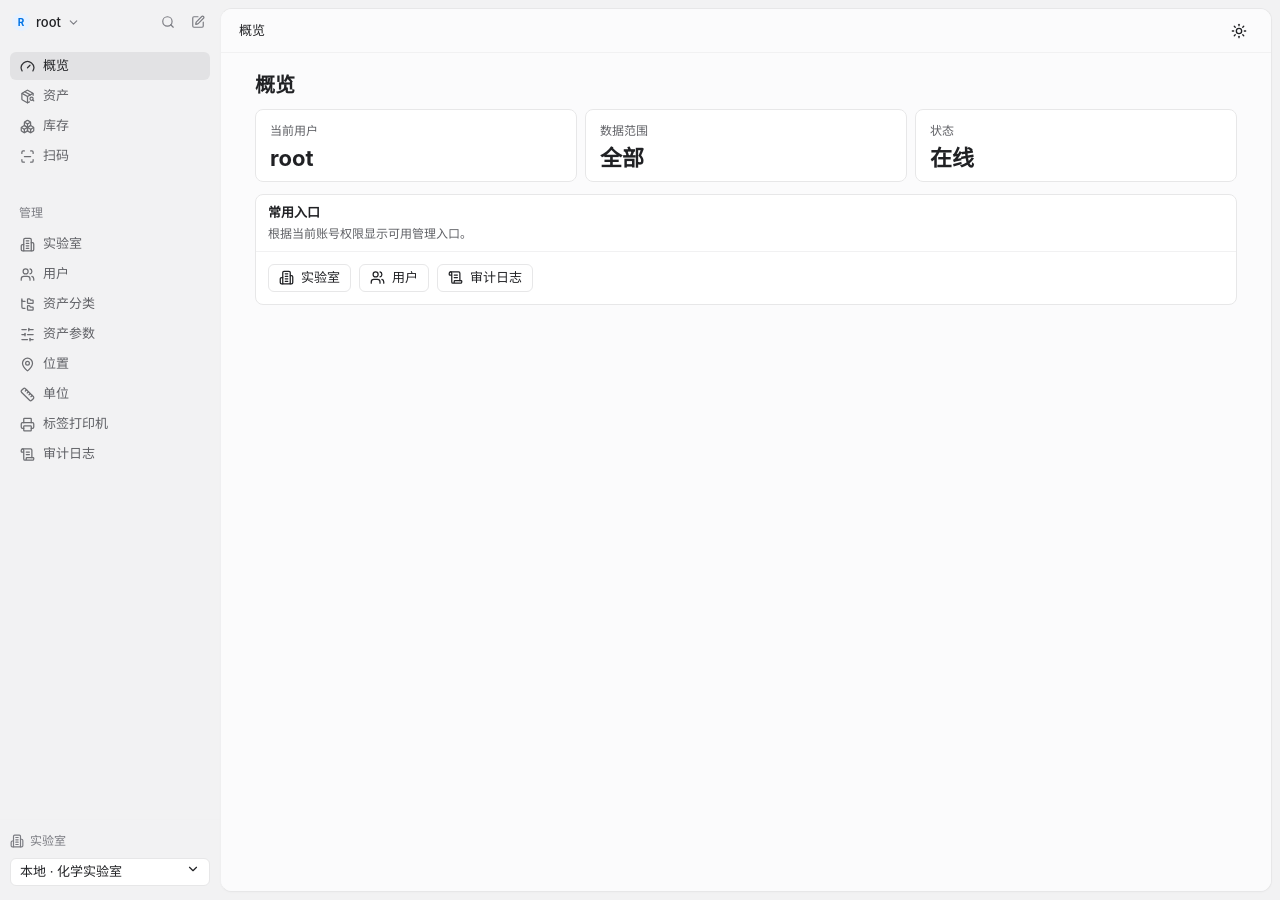
Test case: AppShell user menu › logs out through the backend and returns to login
expect the heading "概览" is shown: met, box left=255, top=73, right=295, bottom=97
Click the button "R root" at (48, 22), box left=12, top=8, right=85, bottom=36
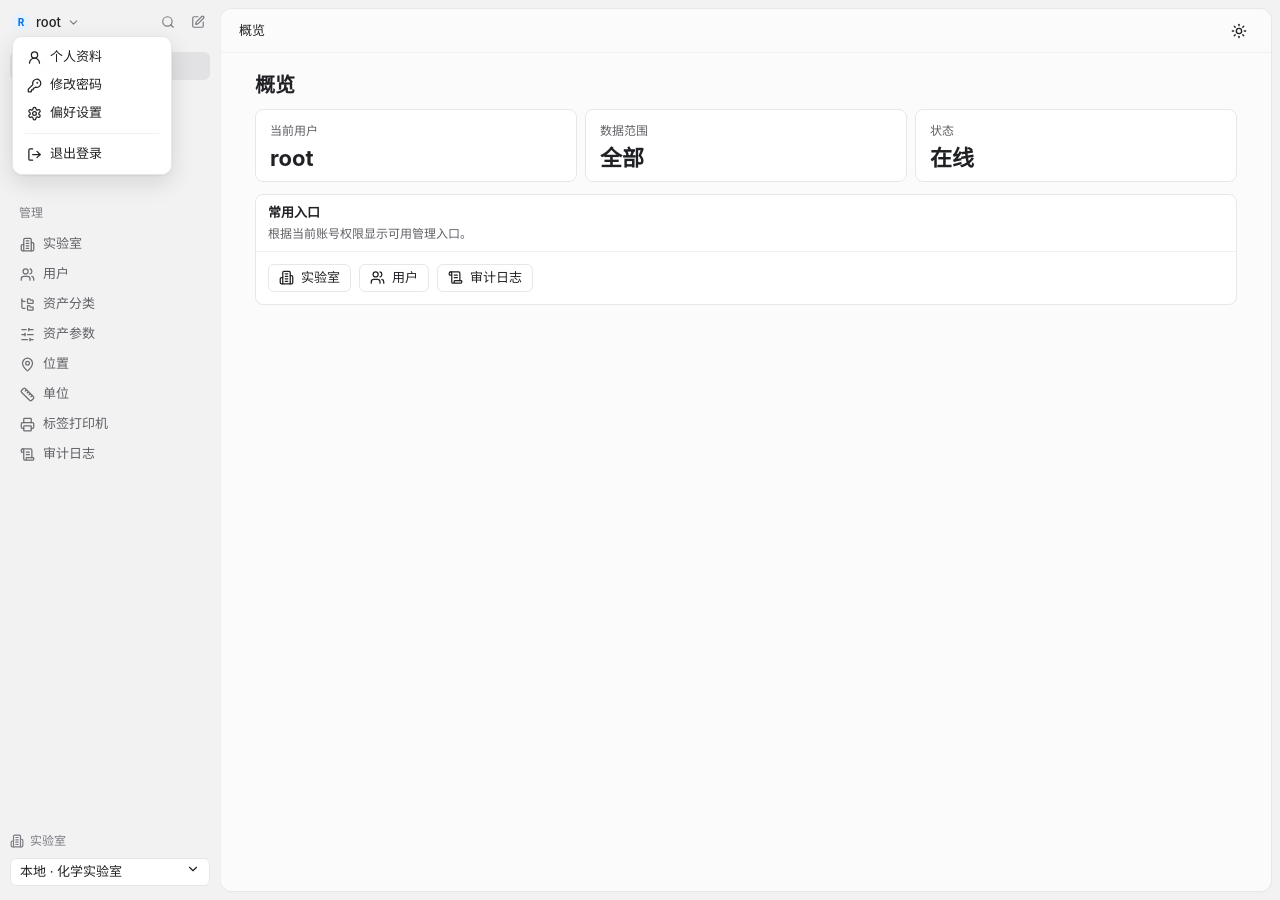
Click the menu item "退出登录" at (64, 153), box left=27, top=145, right=102, bottom=162
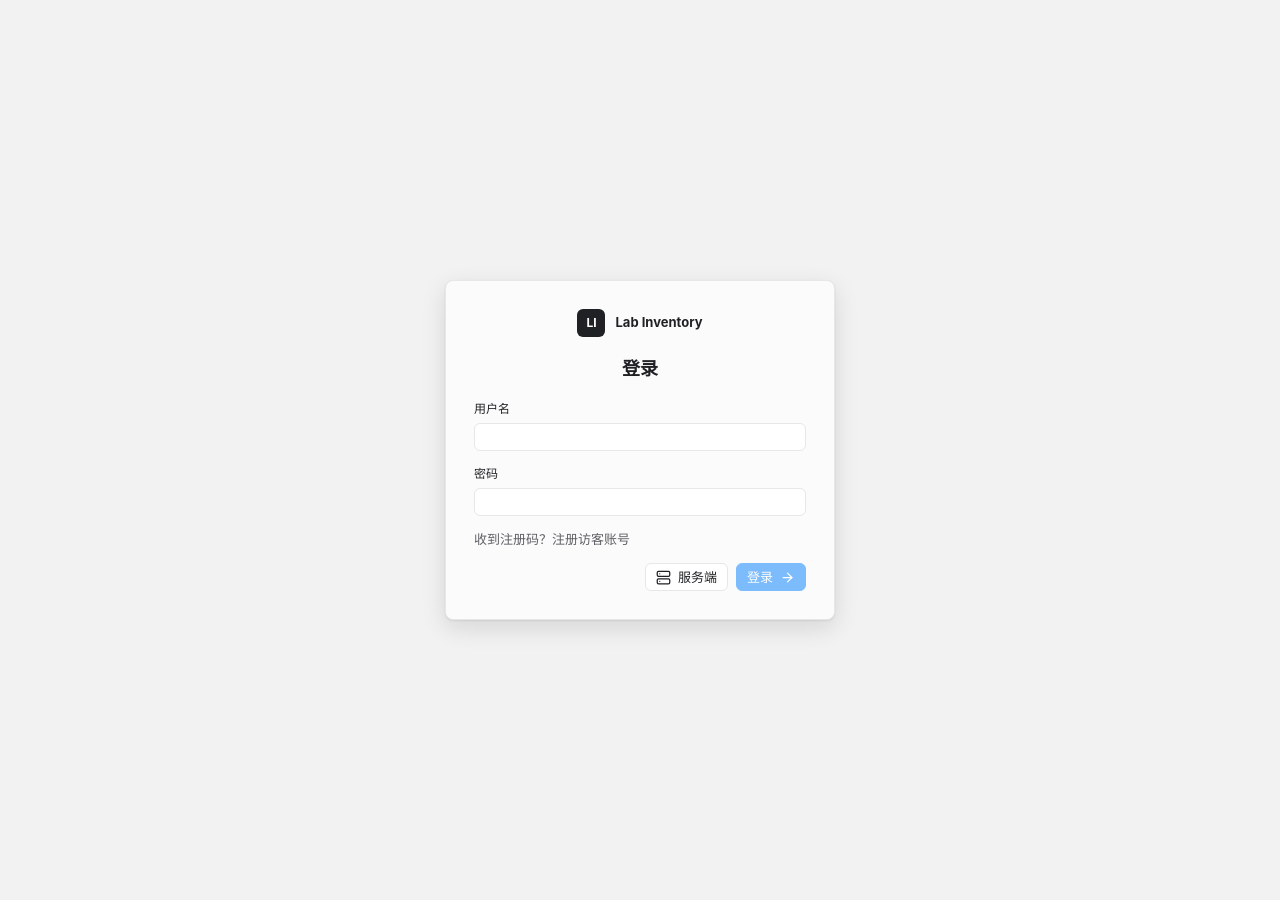
expect the heading "登录" is shown: met, box left=622, top=358, right=658, bottom=379
